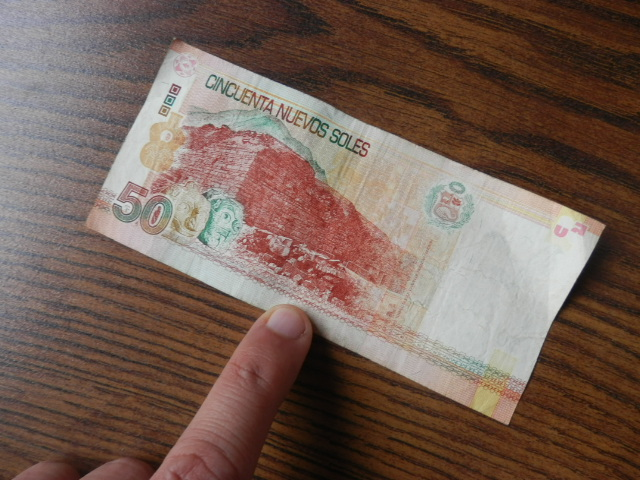B50: (80, 36, 590, 425)
